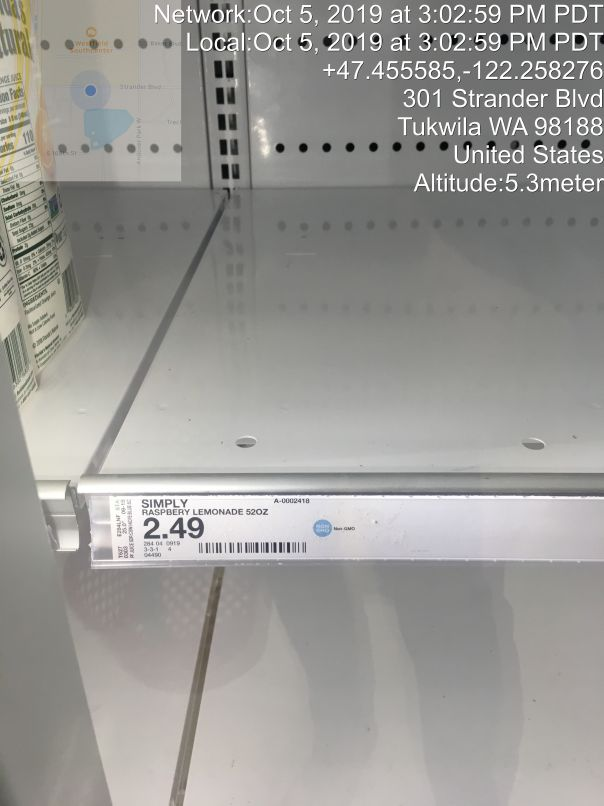Label: (103, 485, 359, 565)
Location: (399, 86, 604, 170)
Time: (149, 4, 600, 55)
Void: (106, 98, 565, 428)
